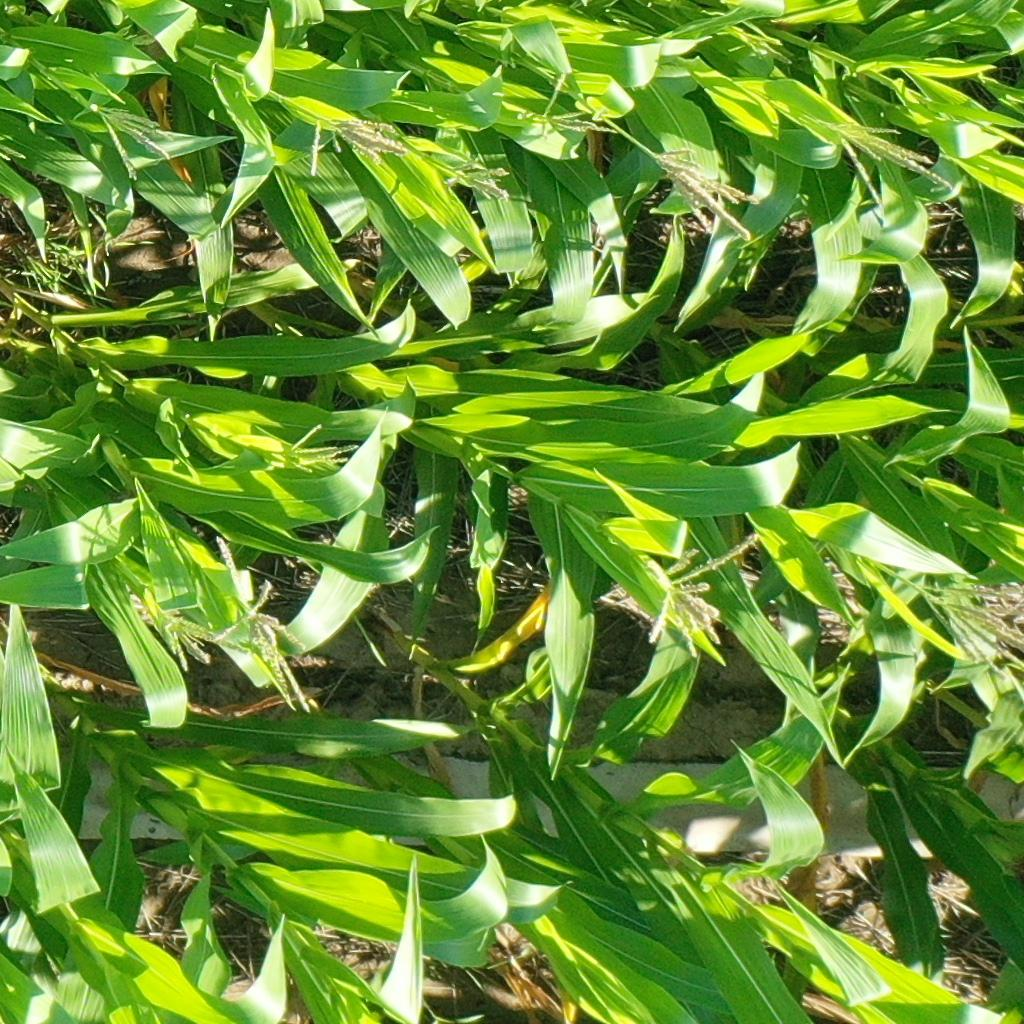Tassel: (205, 531, 327, 710), (634, 527, 769, 661), (903, 565, 1024, 678), (814, 117, 957, 203), (647, 142, 761, 243), (300, 107, 408, 178), (524, 68, 619, 141), (91, 103, 171, 176), (282, 416, 363, 473), (157, 607, 222, 669), (442, 152, 513, 204), (736, 31, 790, 67), (1, 130, 28, 164)
